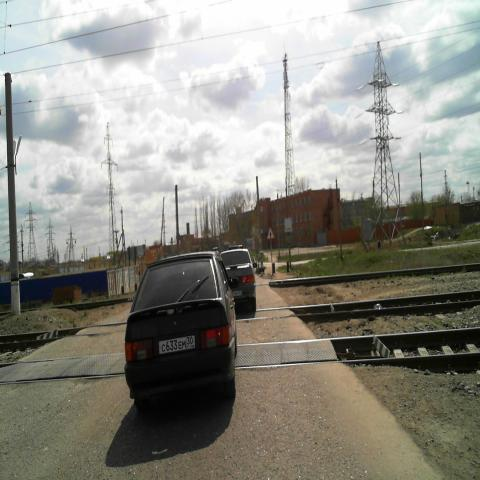2_3: (266, 226, 274, 238)
